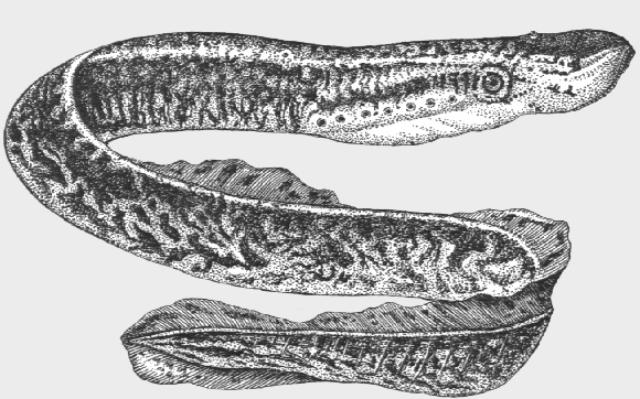Sirip Ekor: (102, 288, 255, 396)
